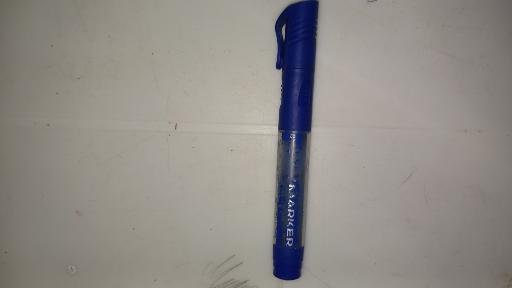Whiteboard marker: (270, 1, 318, 280)
